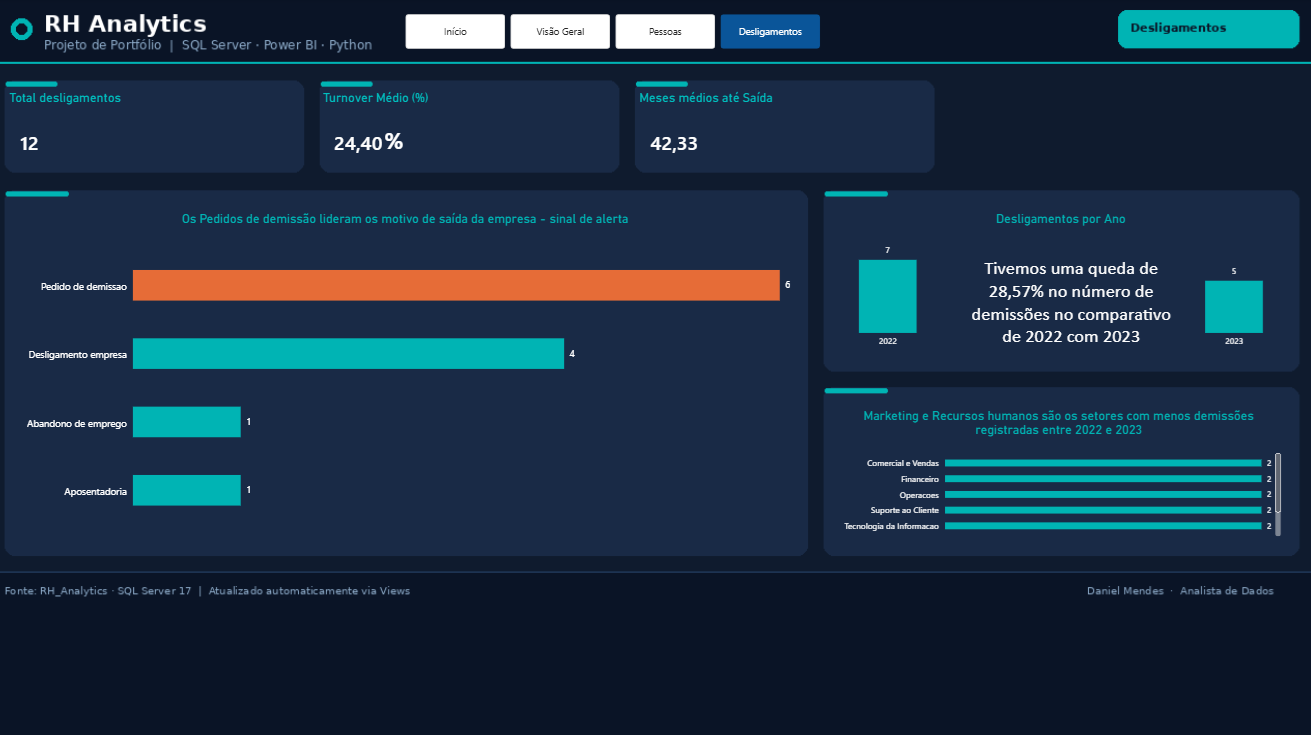

The dashboard page shown, as its layout file describes it:
{"tool":"powerbi","page":{"name":"Desligamentos","canvas":[1920,1080],"ordinal":3},"visuals":[{"type":"pageNavigator","box":[605.1,22.6,600,50],"z":0},{"type":"cardVisual","title":"Total desligamentos","fields":{"Data":["CountNonNull(vw_Desligamentos.Funcionario)"]},"box":[30.9,133.8,419.9,111.1],"z":1000},{"type":"cardVisual","title":"Turnover Médio (%)","fields":{"Data":["Avg(vw_Turnover_Departamento.Turnover_Pct)"]},"box":[485.8,133.8,419.9,111.1],"z":2000},{"type":"cardVisual","title":"Meses médios até Saída","fields":{"Data":["Avg(vw_Desligamentos.Tempo_Casa_Meses)"]},"box":[942.7,133.8,419.9,111.1],"z":3000},{"type":"textbox","box":[30.9,329.3,20.6,45.3],"z":4000},{"type":"textbox","box":[574.3,185.2,63.8,59.7],"z":5000},{"type":"clusteredColumnChart","title":"Desligamentos por Ano","fields":{"Category":["vw_Desligamentos.Ano_Saida"],"Y":["CountNonNull(vw_Desligamentos.Funcionario)"]},"box":[1220.6,294.3,666.9,230.5],"z":6000},{"type":"clusteredBarChart","title":"Os Pedidos de demissão lideram os motivo de saída da empresa - sinal de alerta","fields":{"Category":["vw_Desligamentos.Motivo_Saida"],"Y":["CountNonNull(vw_Desligamentos.Funcionario)"]},"box":[30.9,294.3,1146.5,500.2],"z":7000},{"type":"textbox","box":[1362.6,94.7,524.9,234.6],"z":8000},{"type":"textbox","box":[1416.1,374.6,302.6,135.8],"z":9000},{"type":"clusteredBarChart","title":"Marketing e Recursos humanos são os setores com menos demissões registradas entre 2022 e 2023","fields":{"Category":["vw_Desligamentos.Departamento"],"Y":["CountNonNull(vw_Desligamentos.Funcionario)"]},"box":[1212.4,578.4,675.1,216.1],"z":10000}]}

Visuals, with their boxes in screenshot pixels (x1, y1, x2, y2), scaled from the page's 1920x1080 canvas onto the 1311x735 screenshot:
pageNavigator: [left=413, top=15, right=823, bottom=49]
"Total desligamentos" cardVisual: [left=21, top=91, right=308, bottom=167]
"Turnover Médio (%)" cardVisual: [left=332, top=91, right=618, bottom=167]
"Meses médios até Saída" cardVisual: [left=644, top=91, right=930, bottom=167]
textbox: [left=21, top=224, right=35, bottom=255]
textbox: [left=392, top=126, right=436, bottom=167]
"Desligamentos por Ano" clusteredColumnChart: [left=833, top=200, right=1289, bottom=357]
"Os Pedidos de demissão lideram os motivo de saída da empresa - sinal de alerta" clusteredBarChart: [left=21, top=200, right=804, bottom=541]
textbox: [left=930, top=64, right=1289, bottom=224]
textbox: [left=967, top=255, right=1174, bottom=347]
"Marketing e Recursos humanos são os setores com menos demissões registradas entre 2022 e 2023" clusteredBarChart: [left=828, top=394, right=1289, bottom=541]
